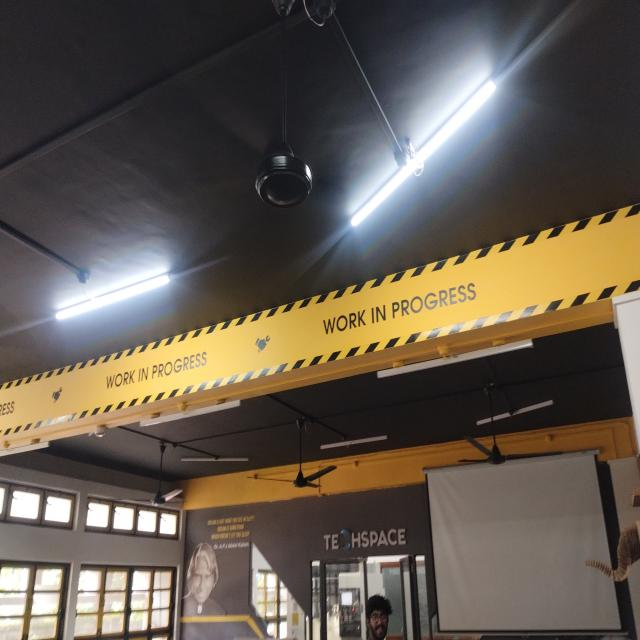tubelight_on: (344, 70, 507, 234), (52, 267, 179, 328)
